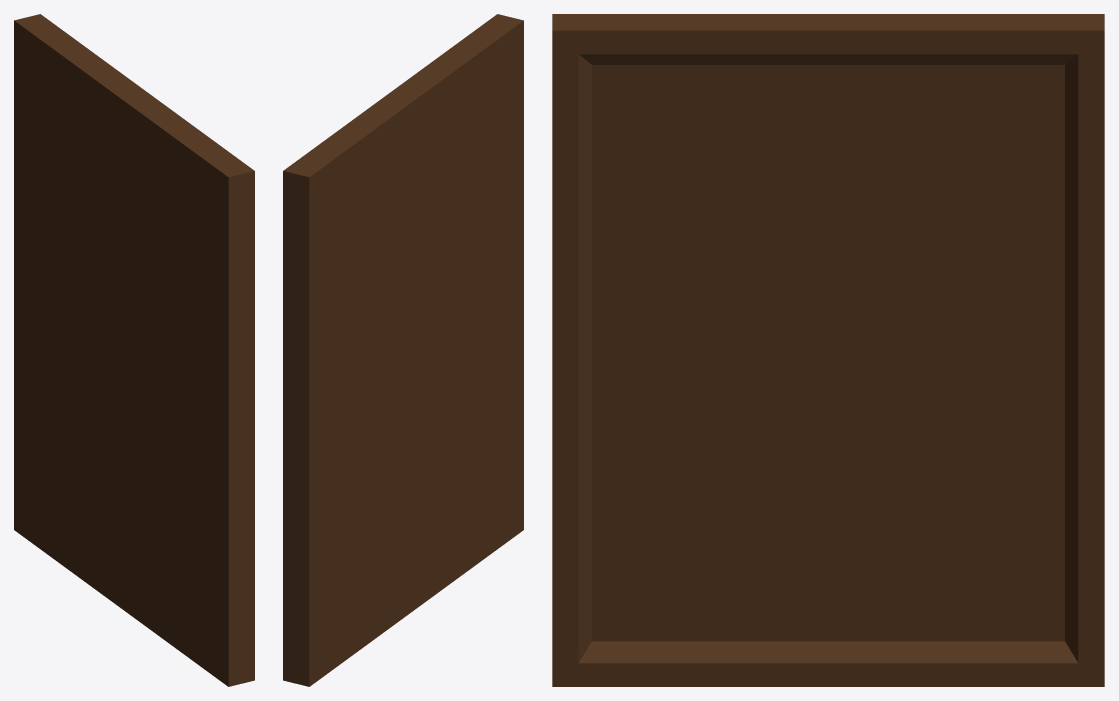
File: Frame.fbx
The picture shows the model from 3 angles, left to right: view 1: azimuth 30°, elevation 25°; view 2: azimuth 150°, elevation 25°; view 3: azimuth 270°, elevation 25°; orthographic projection. The views are drawn at different scales.
Visible parts, largest first — view 1: Cube; view 2: Cube; view 3: Cube.
Boxes of the visible parts, bbox=[...] form: Cube: bbox=[14, 14, 254, 686]; Cube: bbox=[283, 14, 523, 686]; Cube: bbox=[552, 14, 1104, 686].
Size of the model in its own units: 17.41 by 322 by 245.
